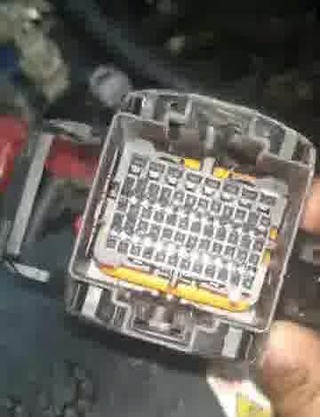connector: (64, 88, 316, 363)
